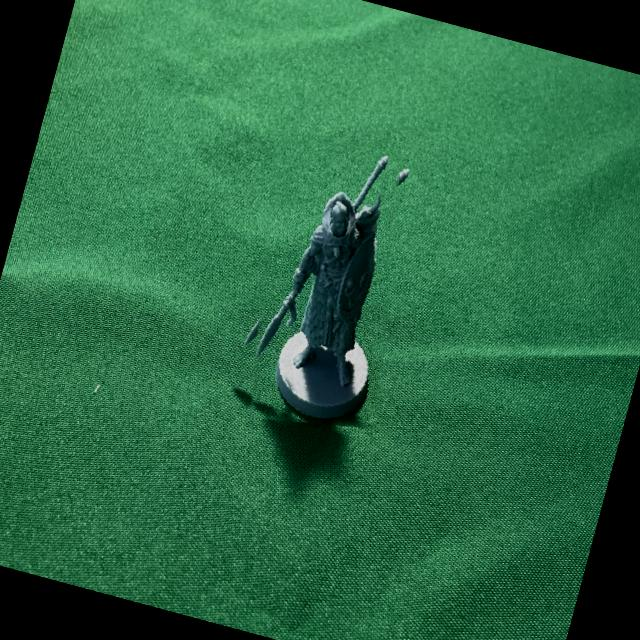isis_follower: (215, 123, 436, 443)
